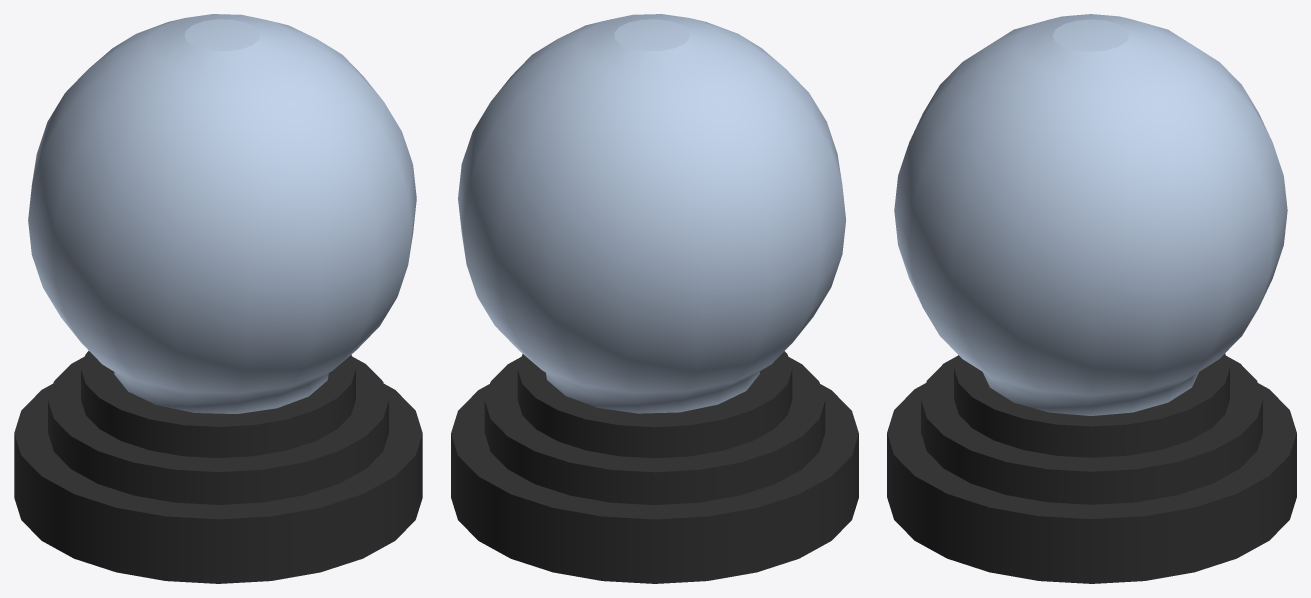
Rendered from ball.fbx.
The picture shows the model from 3 angles, left to right: view 1: azimuth 30°, elevation 25°; view 2: azimuth 150°, elevation 25°; view 3: azimuth 270°, elevation 25°; orthographic projection.
Visible parts, largest first — view 1: Cylinder.006; view 2: Cylinder.006; view 3: Cylinder.006.
Part boxes in pixels (x1,y1,x2,y2): Cylinder.006: (14,14,422,583); Cylinder.006: (451,14,858,583); Cylinder.006: (887,14,1296,583).
Size of the model in its own units: 49.87 by 62.68 by 49.87.
